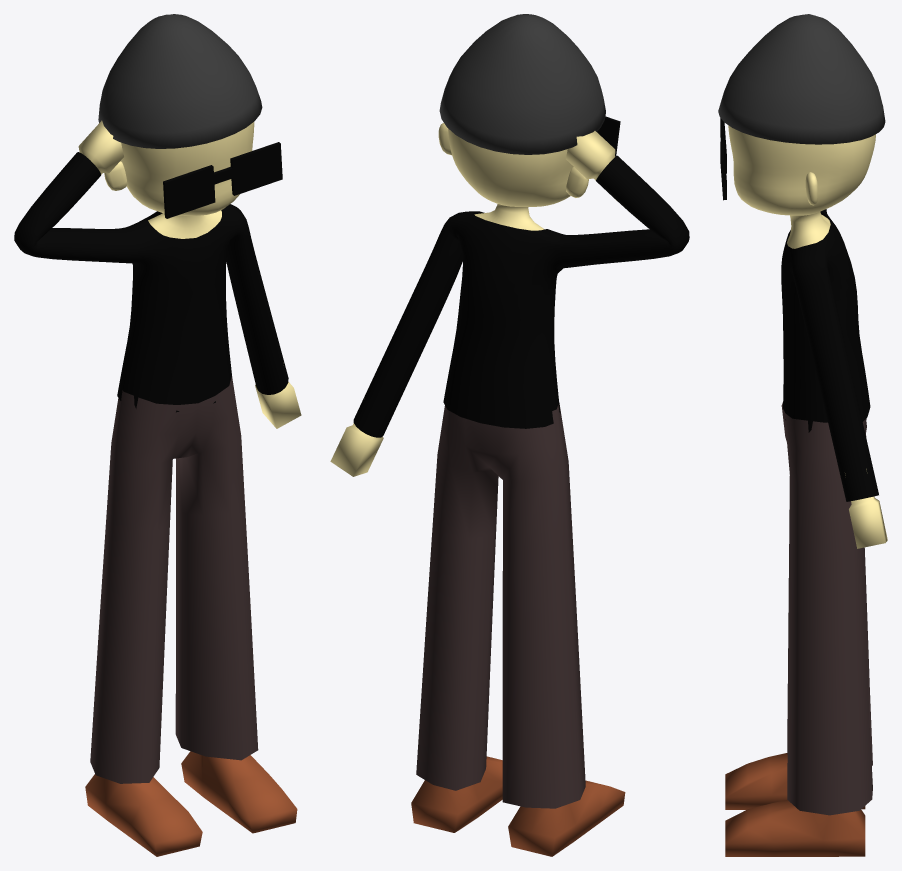
The model's file is pervent_.fbx.
3 views of the same model, side by side, from view 1: azimuth 30°, elevation 25°; view 2: azimuth 150°, elevation 25°; view 3: azimuth 270°, elevation 25° (orthographic).
Visible parts, largest first — view 1: pants, clothes, hat, shoes, face, sunglasses, hand; view 2: pants, clothes, hat, shoes, face, hand; view 3: pants, clothes, hat, face, shoes, hand, sunglasses.
Boxes of the visible parts, x1=… form: pants: x1=90, y1=376, x2=258, y2=783; clothes: x1=14, y1=152, x2=288, y2=412; hat: x1=98, y1=14, x2=262, y2=148; shoes: x1=85, y1=751, x2=297, y2=856; face: x1=104, y1=122, x2=254, y2=238; sunglasses: x1=163, y1=142, x2=282, y2=218; hand: x1=78, y1=120, x2=301, y2=428; pants: x1=416, y1=403, x2=585, y2=808; clothes: x1=353, y1=155, x2=689, y2=437; hat: x1=439, y1=14, x2=605, y2=154; shoes: x1=411, y1=756, x2=625, y2=856; face: x1=438, y1=123, x2=588, y2=230; hand: x1=330, y1=131, x2=616, y2=476; pants: x1=781, y1=402, x2=872, y2=815; clothes: x1=781, y1=209, x2=878, y2=501; hat: x1=718, y1=14, x2=885, y2=144; face: x1=728, y1=125, x2=875, y2=248; shoes: x1=725, y1=753, x2=865, y2=856; hand: x1=845, y1=469, x2=887, y2=548; sunglasses: x1=720, y1=118, x2=726, y2=200.
Bounding box in the file's own units: 131 × 324 × 62.23.
